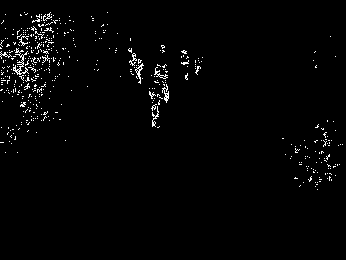person: (149, 64, 169, 129)
